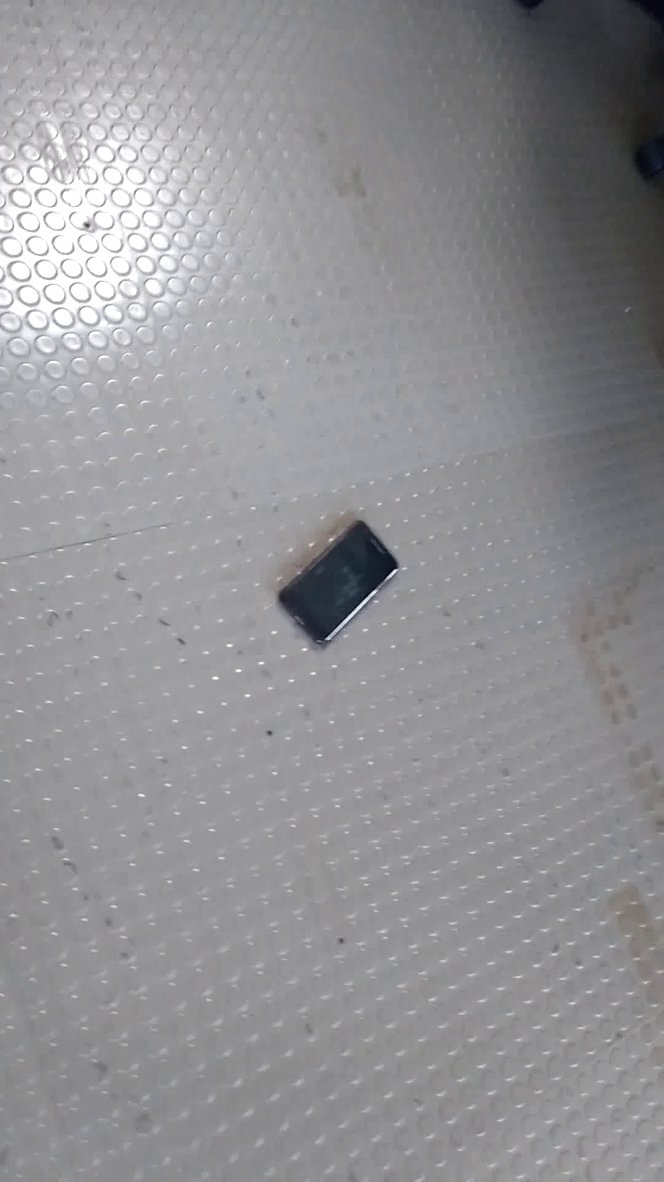phone: (268, 505, 420, 657)
